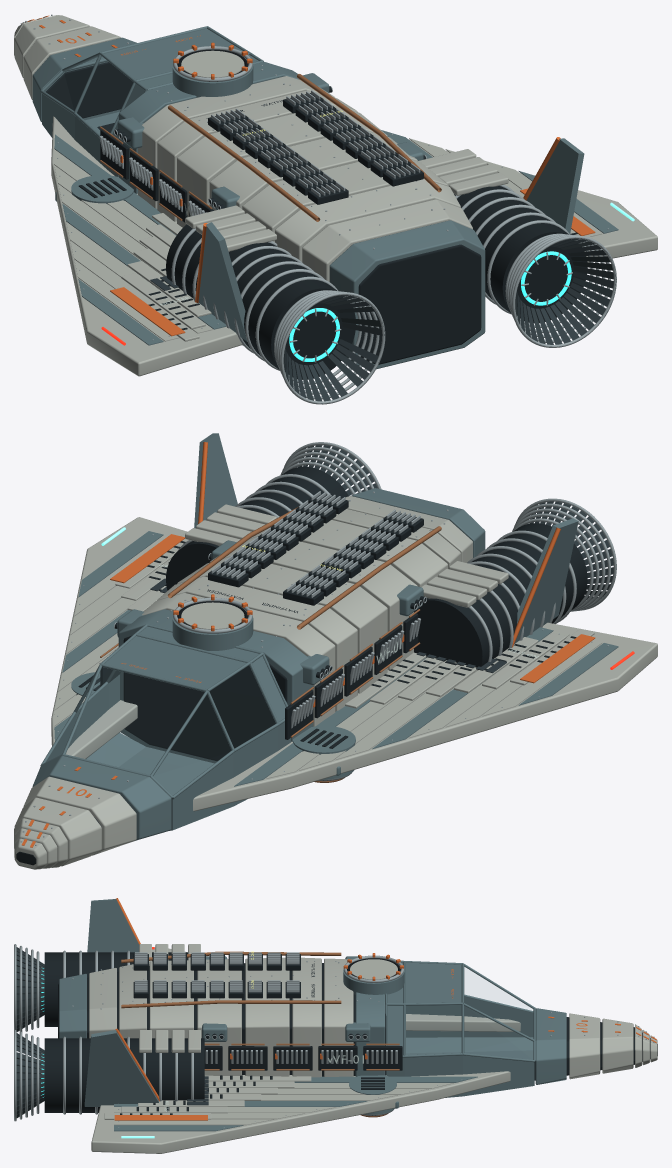
The model's file is hero-ship-hero.glb.
The picture shows the model from 3 angles, top to bottom: view 1: azimuth 30°, elevation 25°; view 2: azimuth 150°, elevation 25°; view 3: azimuth 270°, elevation 25°; orthographic projection. The views are drawn at different scales.
Visible parts, largest first — view 1: Primary aft hull substrate, Engine -1 pressure jacket, Swept lifting chine, Engine 1 pressure jacket, Pressure armor 00.00, Pressure armor 00.02, Pressure armor 00.01, Pressure armor 01.02, Pressure armor 02.01, Pressure armor 01.00, Pressure armor 01.01, Canted dorsal stabilizer (+47 smaller); view 2: Swept lifting chine, Primary aft hull substrate, Engine -1 pressure jacket, Swept lifting chine.001, Pressure armor 04.00, Pressure armor 02.00, Cell pressure skin 1-0, Pressure armor 01.02, Engine 1 pressure jacket, Pressure armor 04.01, Pressure armor 02.02, Pressure armor 01.01 (+55 smaller); view 3: Swept lifting chine.001, Engine 1 pressure jacket, Canted dorsal stabilizer.001, Pressure armor 01.02, Pressure armor 02.00, Pressure armor 01.01, Pressure armor 02.01, Engine -1 pressure jacket, Pressure armor 04.00, Pressure armor 01.00, Cell pressure skin 1-0, Canted dorsal stabilizer (+44 smaller).
Boxes of the visible parts, bbox=[...] form: Primary aft hull substrate: bbox=[358, 244, 481, 364]; Engine -1 pressure jacket: bbox=[166, 224, 355, 379]; Swept lifting chine: bbox=[51, 116, 242, 376]; Engine 1 pressure jacket: bbox=[454, 186, 587, 323]; Pressure armor 00.00: bbox=[329, 220, 485, 369]; Pressure armor 00.02: bbox=[275, 179, 460, 261]; Pressure armor 00.01: bbox=[302, 199, 472, 281]; Pressure armor 01.02: bbox=[177, 105, 387, 227]; Pressure armor 02.01: bbox=[138, 76, 334, 208]; Pressure armor 01.00: bbox=[242, 159, 447, 242]; Pressure armor 01.01: bbox=[209, 131, 417, 210]; Canted dorsal stabilizer: bbox=[198, 222, 247, 341]; Swept lifting chine: bbox=[193, 622, 657, 811]; Primary aft hull substrate: bbox=[123, 635, 287, 761]; Engine -1 pressure jacket: bbox=[414, 523, 587, 669]; Swept lifting chine.001: bbox=[51, 517, 187, 758]; Pressure armor 04.00: bbox=[32, 756, 171, 840]; Pressure armor 02.00: bbox=[157, 576, 357, 711]; Cell pressure skin 1-0: bbox=[104, 636, 246, 688]; Pressure armor 01.02: bbox=[177, 557, 387, 693]; Engine 1 pressure jacket: bbox=[166, 466, 348, 590]; Pressure armor 04.01: bbox=[23, 776, 136, 855]; Pressure armor 02.02: bbox=[118, 609, 312, 763]; Pressure armor 01.01: bbox=[210, 537, 417, 669]; Swept lifting chine.001: bbox=[91, 1071, 510, 1153]; Engine 1 pressure jacket: bbox=[44, 1038, 204, 1112]; Canted dorsal stabilizer.001: bbox=[84, 1030, 158, 1106]; Pressure armor 01.02: bbox=[245, 957, 289, 1076]; Pressure armor 02.00: bbox=[292, 957, 321, 1077]; Pressure armor 01.01: bbox=[197, 959, 241, 1075]; Pressure armor 02.01: bbox=[324, 958, 353, 1076]; Engine -1 pressure jacket: bbox=[44, 952, 187, 1026]; Pressure armor 04.00: bbox=[535, 1008, 566, 1084]; Pressure armor 01.00: bbox=[149, 960, 193, 1038]; Cell pressure skin 1-0: bbox=[406, 962, 461, 1003]; Canted dorsal stabilizer: bbox=[87, 899, 138, 952].
Bounding box in the file's own units: 14 × 3.93 × 19.32.
